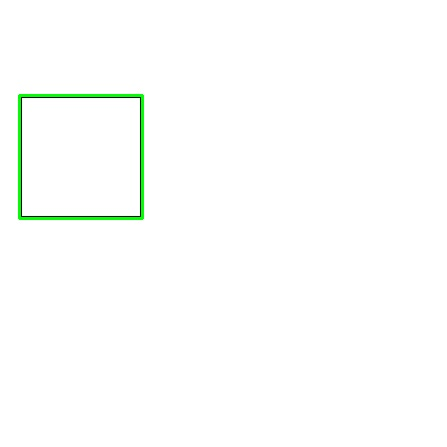line_segment: (18, 94, 144, 220)
